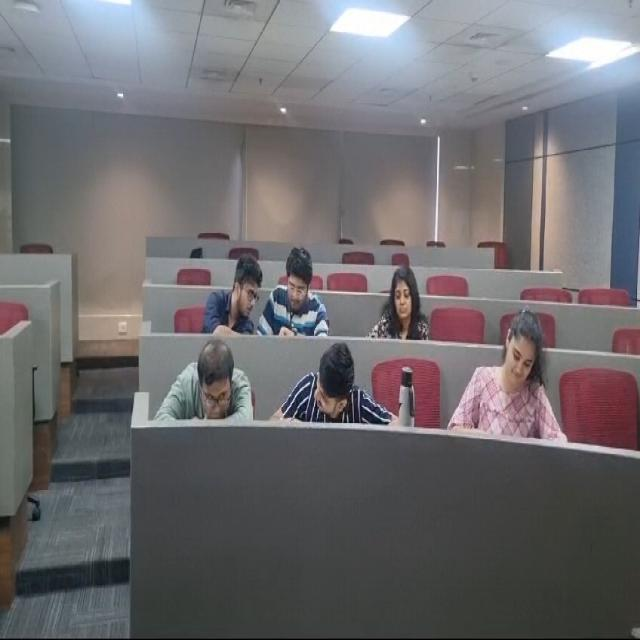cheating: (279, 322, 416, 442), (168, 342, 262, 434), (266, 223, 331, 349), (208, 234, 266, 339)
non-cheating: (459, 308, 554, 414), (368, 260, 430, 348)
